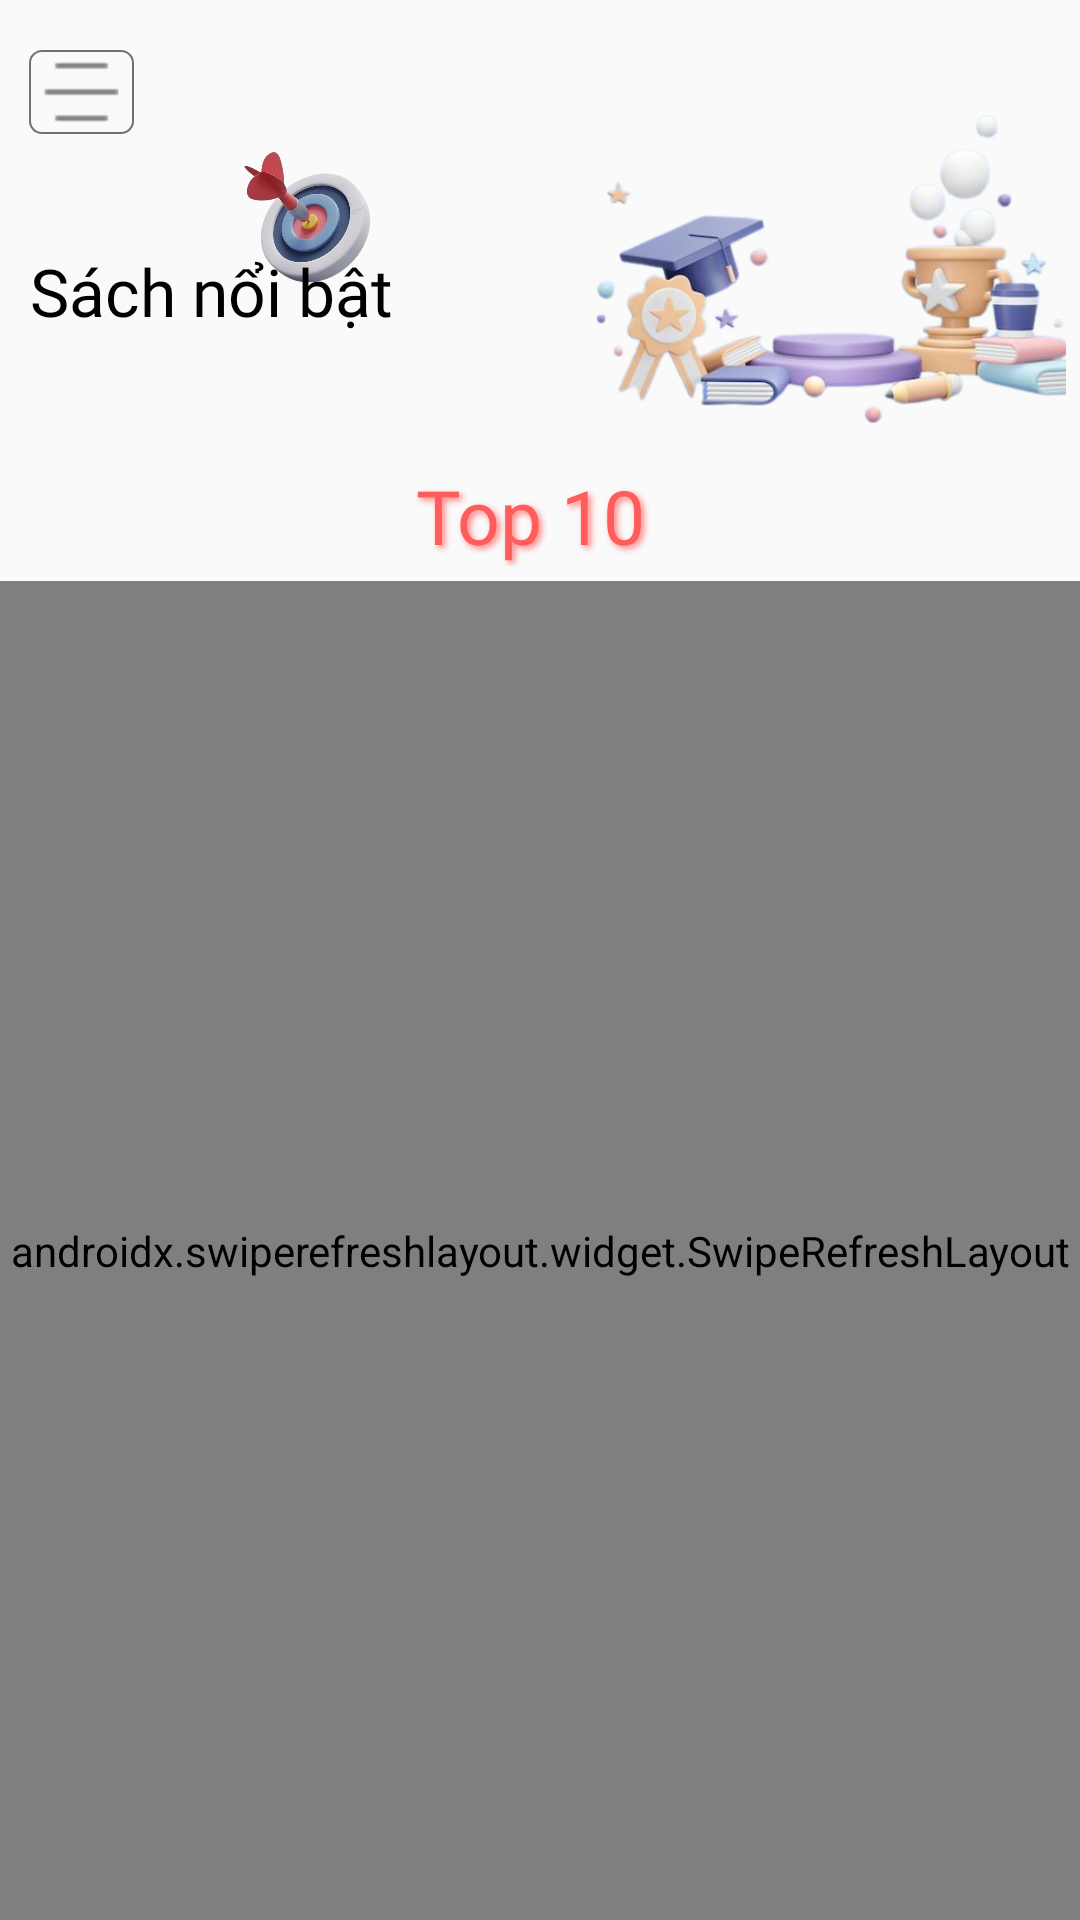

Named icons in this screenshot (1080px×1920px) and their bounding boxes, (x1=x1, y1=y1, x2=x2, y2=y2):
nav: (x1=29, y1=50, x2=134, y2=134)
